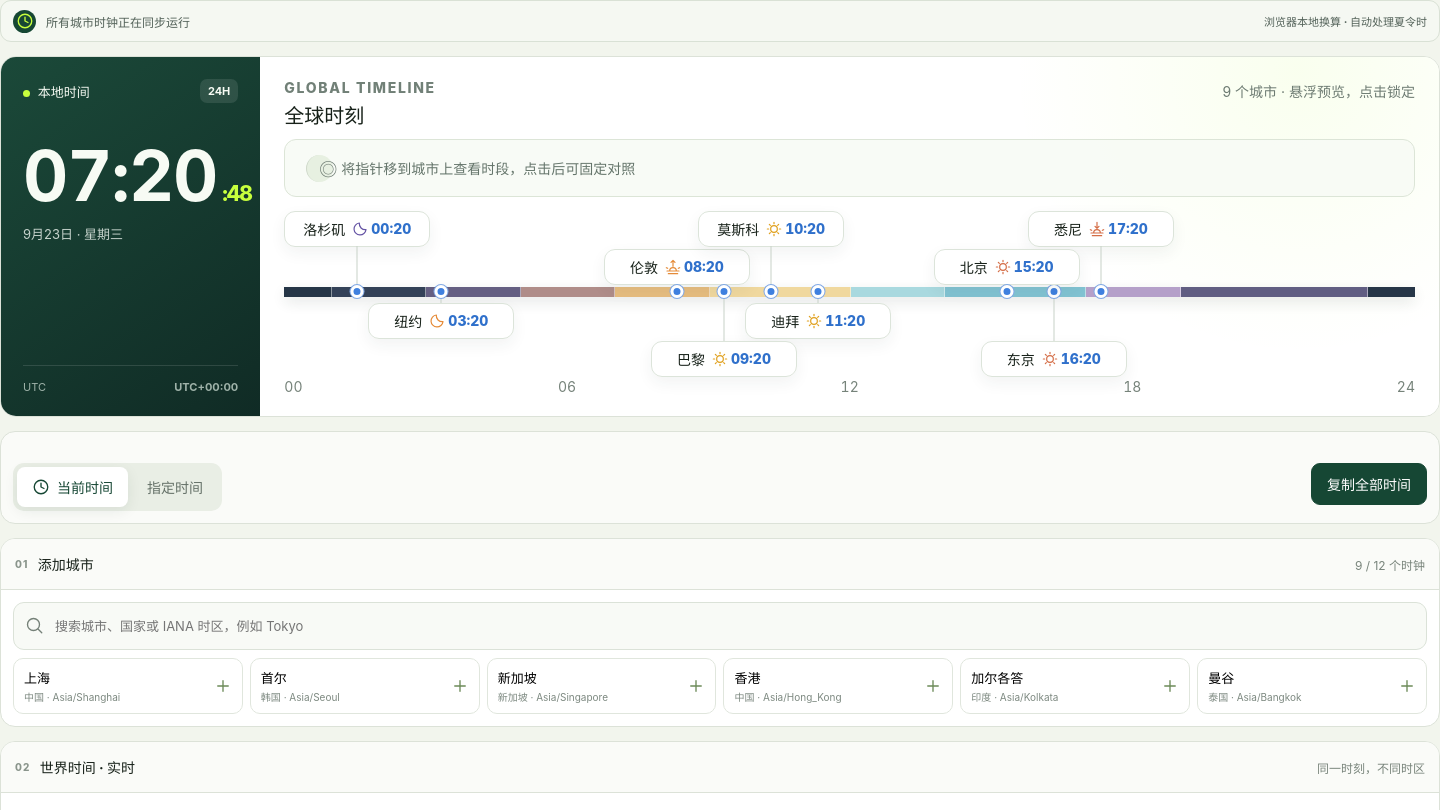
Test case: WorldTimeTool › shows default live clocks and adds a searched city
Check: the text "本地时间" is shown, box [23, 82, 90, 100]
Check: the heading "全球时刻" is shown, box [284, 104, 364, 128]
Step 1. Type "多伦多" into the search field named "搜索城市或时区" → (734, 626), box [53, 617, 1414, 635]
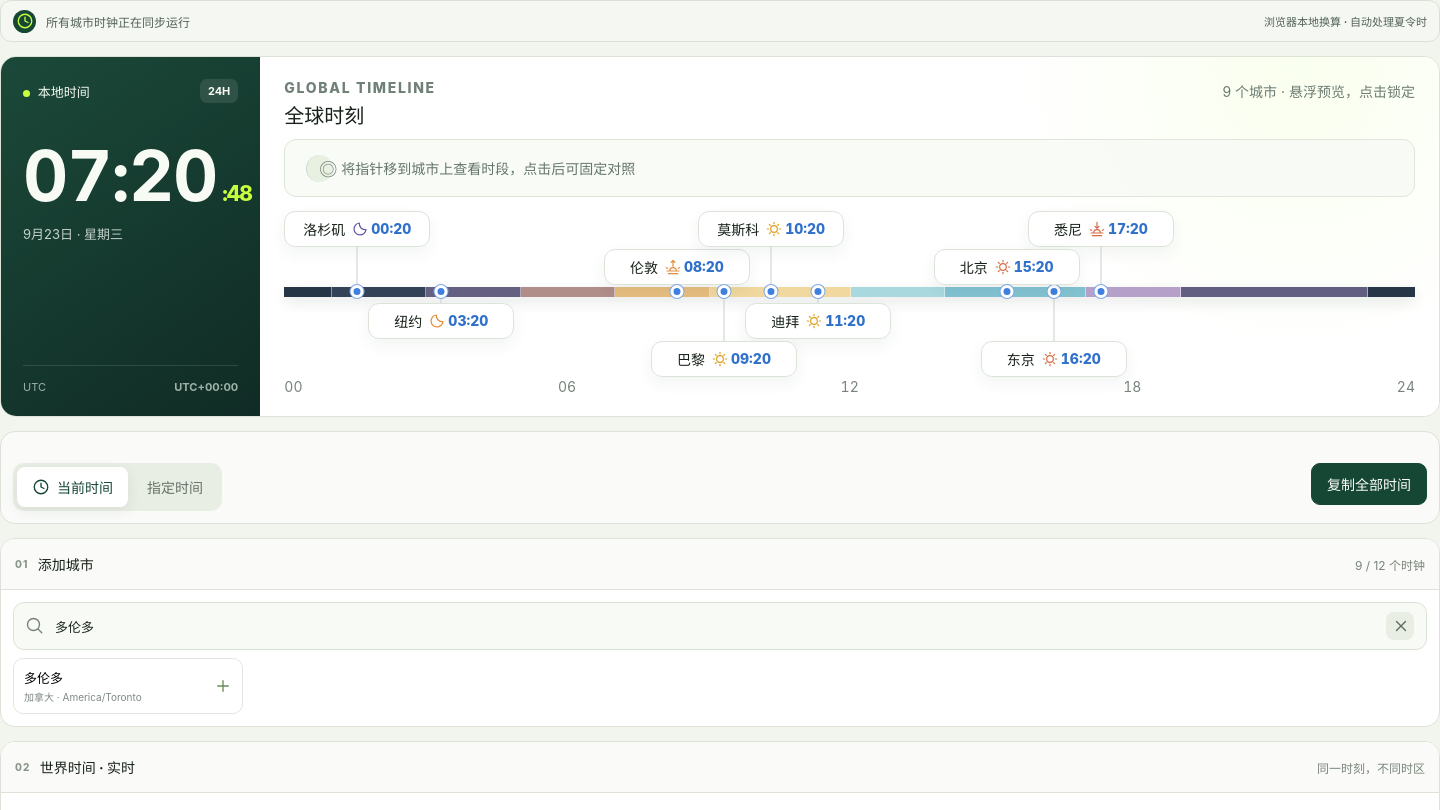
Step 2. Click the button "多伦多 加拿大 · America/Toronto" → (128, 686), box [13, 658, 243, 714]
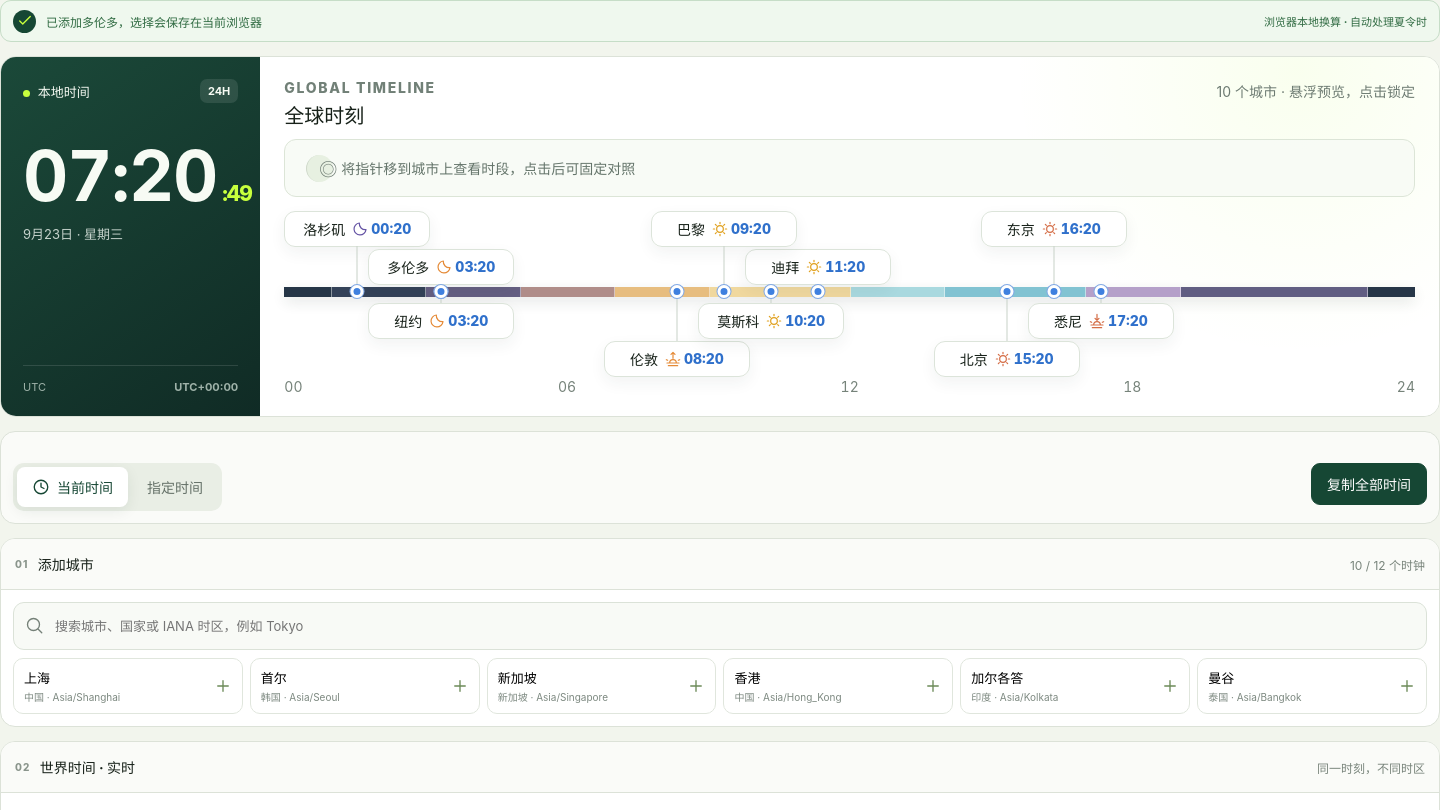
Check: the message shows "已添加多伦多", box [46, 14, 262, 30]
